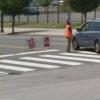Crosswalk: (3, 49, 86, 83)
